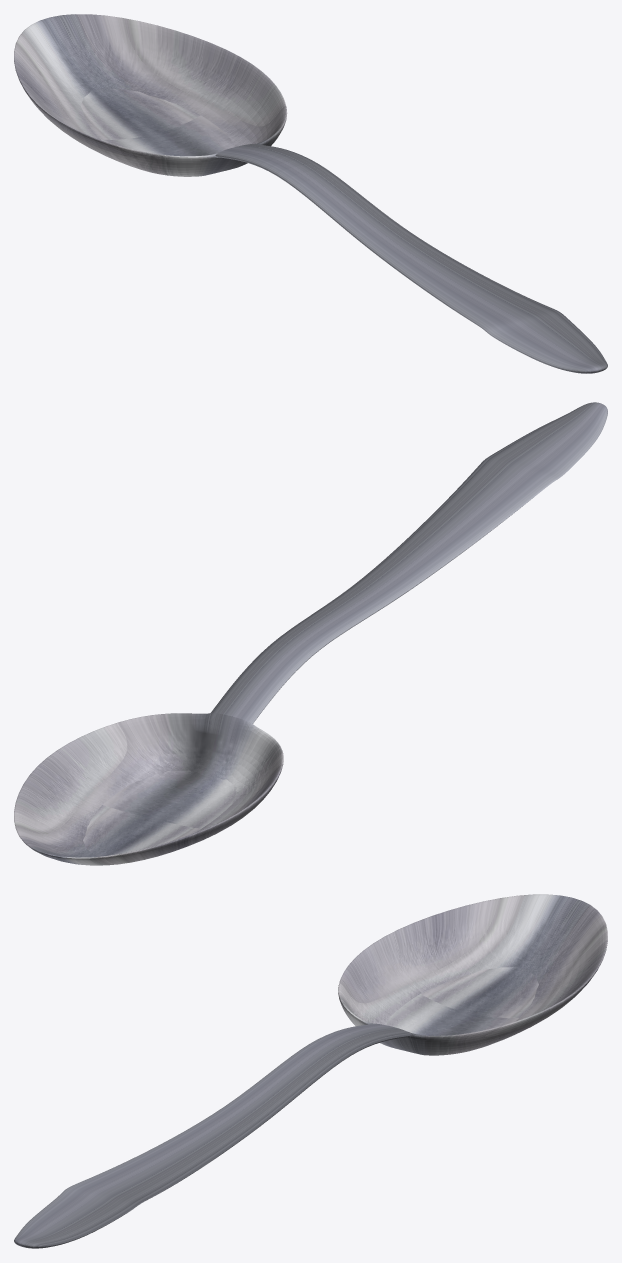
The model's file is spooon.fbx.
The picture shows the model from 3 angles, top to bottom: view 1: azimuth 30°, elevation 25°; view 2: azimuth 150°, elevation 25°; view 3: azimuth 330°, elevation 25°; orthographic projection.
Parts seen in each view (by area): view 1: Plane; view 2: Plane; view 3: Plane.
Boxes of the visible parts, x1,y1,x2,y2 form: Plane: (14, 14, 607, 373); Plane: (14, 402, 607, 865); Plane: (14, 894, 607, 1248).
Size of the model in its own units: 254 by 114 by 1190.
